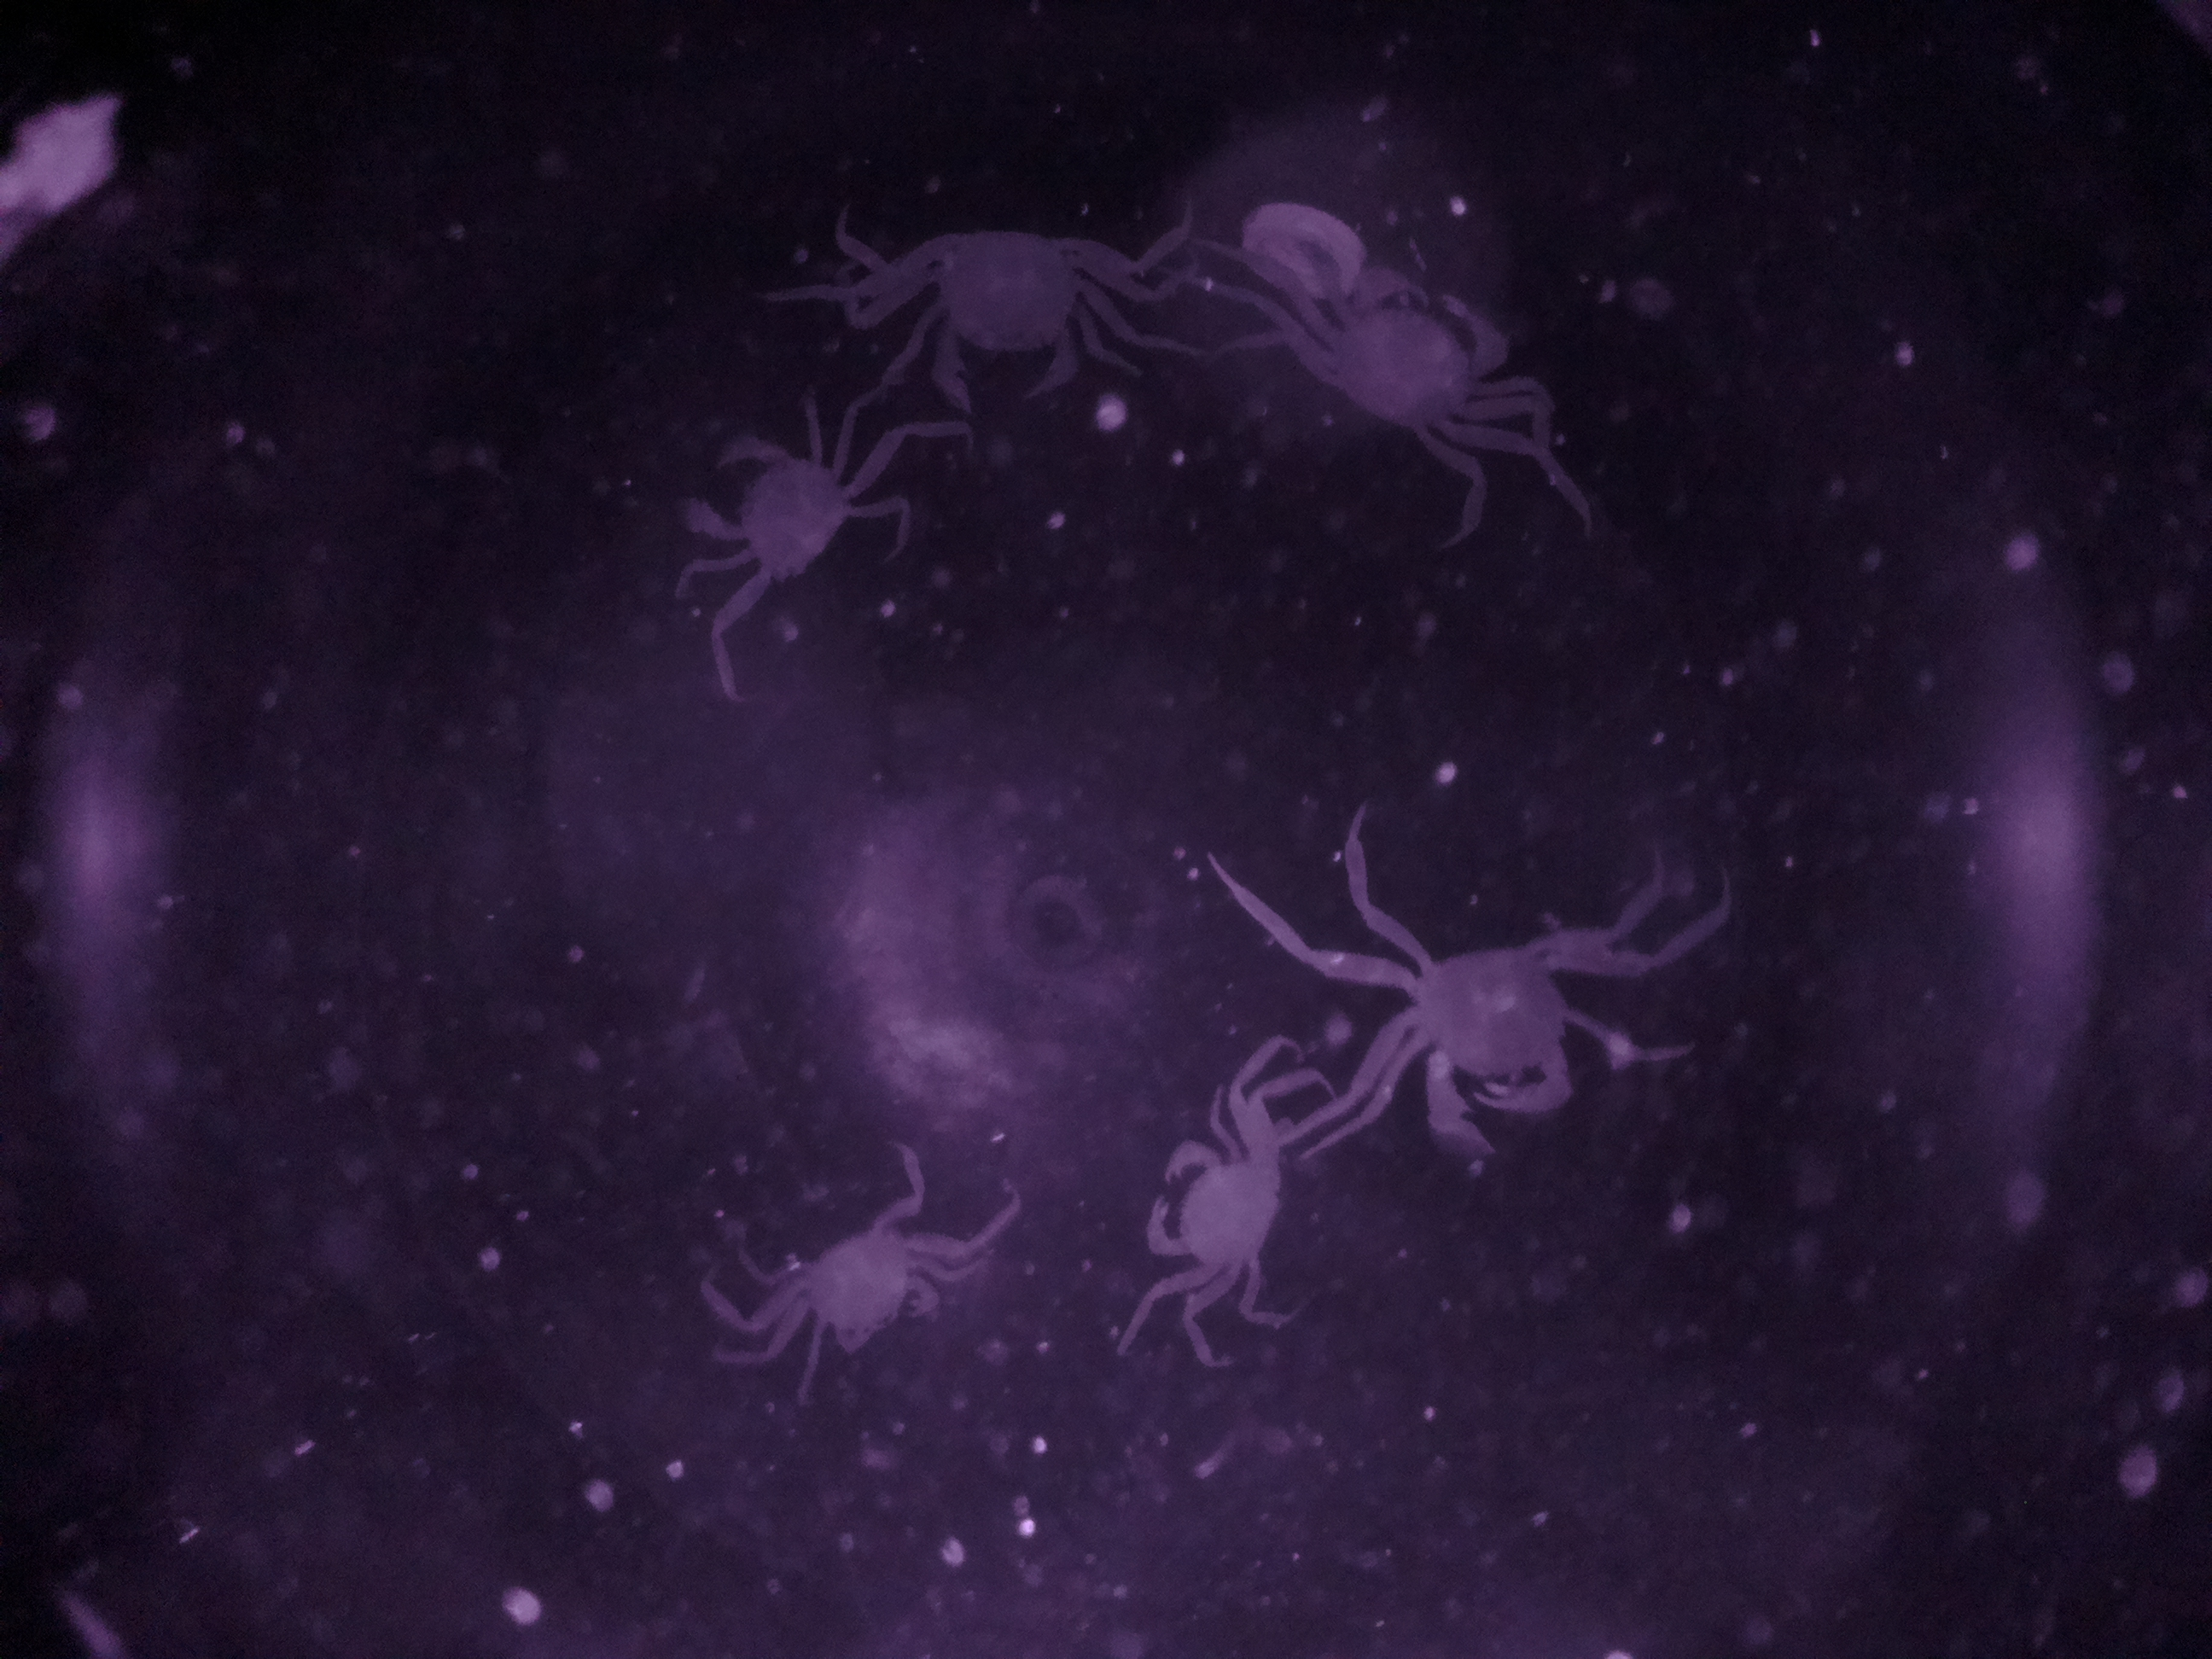Crab: (1318, 906, 1644, 1194), (1235, 244, 1531, 481), (857, 204, 1160, 429), (658, 408, 920, 636), (738, 1194, 981, 1408), (1130, 1108, 1313, 1314)
